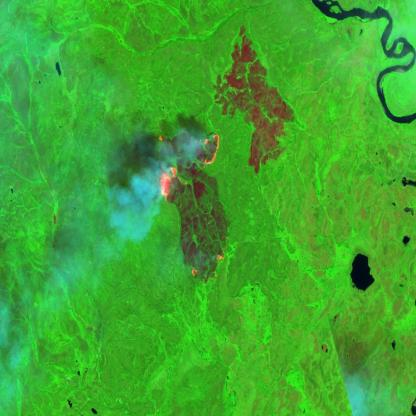fire: (156, 125, 223, 216)
